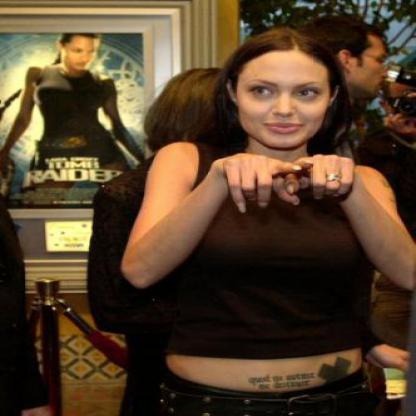face: (239, 31, 334, 149), (65, 33, 97, 73)
